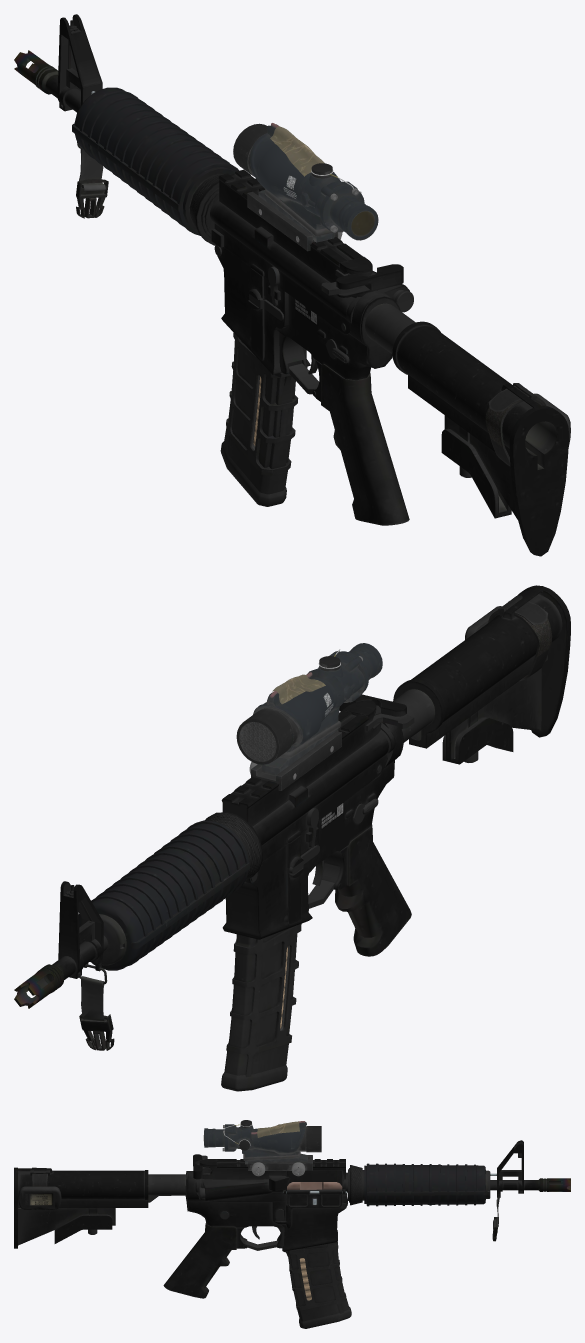
The model's file is rifle.glb.
The picture shows the model from 3 angles, top to bottom: view 1: azimuth 30°, elevation 25°; view 2: azimuth 150°, elevation 25°; view 3: azimuth 270°, elevation 25°; orthographic projection. The views are drawn at different scales.
Parts seen in each view (by area): view 1: ar15_ar 15 2_0, ar15_ar15 1_0, acog_optic.001_0, gps_gps_0; view 2: ar15_ar 15 2_0, ar15_ar15 1_0, acog_optic.001_0, gps_gps_0; view 3: ar15_ar 15 2_0, ar15_ar15 1_0, acog_optic.001_0, gps_gps_0.
Boxes of the visible parts, x1,y1,x2,y2 form: ar15_ar 15 2_0: [72, 87, 568, 556]; ar15_ar15 1_0: [14, 14, 413, 401]; acog_optic.001_0: [233, 123, 378, 251]; gps_gps_0: [485, 383, 570, 466]; ar15_ar 15 2_0: [79, 585, 570, 1091]; ar15_ar15 1_0: [14, 694, 414, 1008]; acog_optic.001_0: [236, 643, 382, 790]; gps_gps_0: [465, 595, 552, 680]; ar15_ar 15 2_0: [14, 1163, 499, 1328]; ar15_ar15 1_0: [185, 1140, 570, 1251]; acog_optic.001_0: [203, 1120, 321, 1176]; gps_gps_0: [18, 1167, 61, 1209].
Bounding box in the file's own units: 0.6809 × 2.76 × 6.79.
Materials: 5 (5 with a texture image).
